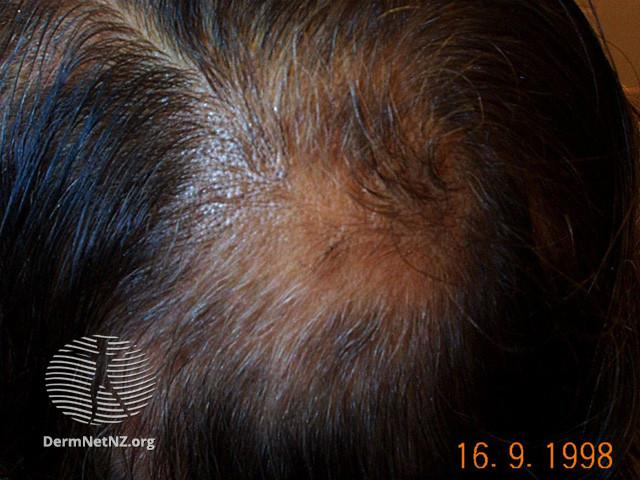Alopecia Areata: (238, 161, 454, 310)
